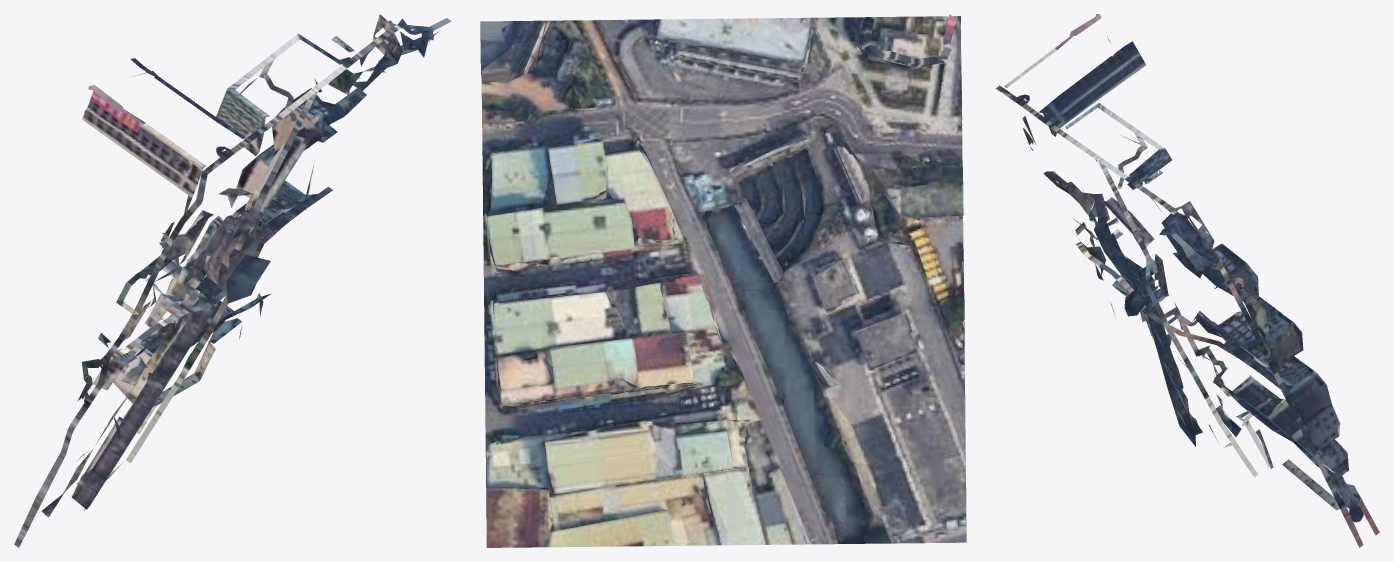
3 views of the same model, side by side, from view 1: azimuth 30°, elevation 25°; view 2: azimuth 150°, elevation 25°; view 3: azimuth 270°, elevation 25° (orthographic). The views are drawn at different scales.
Bounding box in the file's own units: 157 × 160 × 135.
2 materials, 2 textured.
